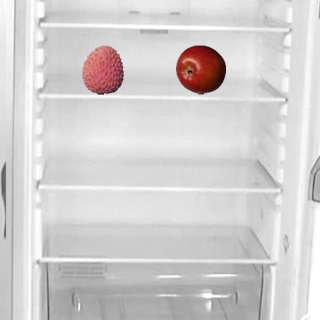Apple Braeburn: (175, 44, 225, 94)
Lychee: (77, 44, 127, 94)
